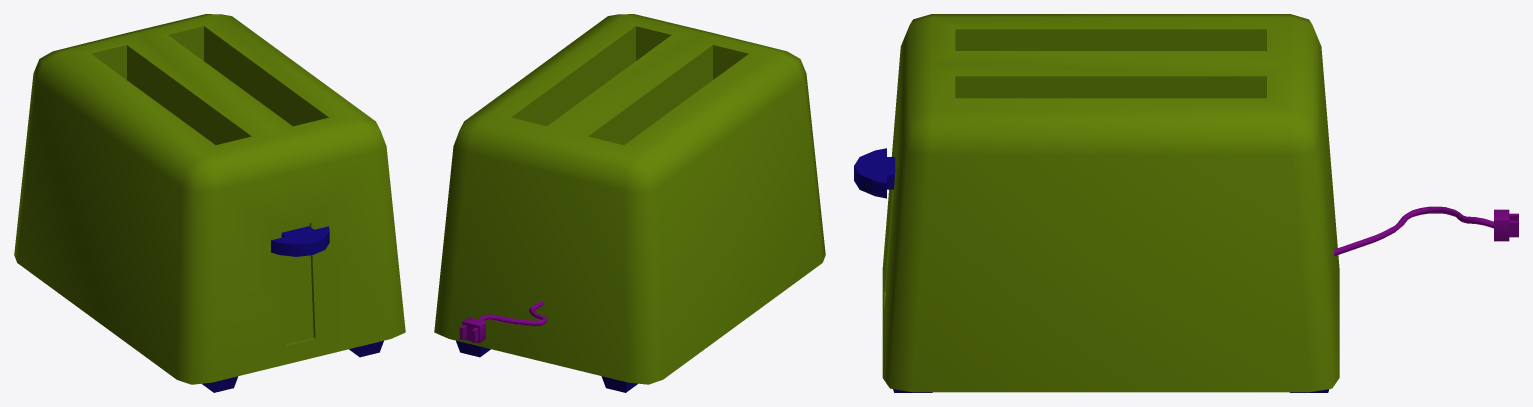
The model's file is SM_Toaster.fbx.
3 renders of one model, left to right at view 1: azimuth 30°, elevation 25°; view 2: azimuth 150°, elevation 25°; view 3: azimuth 270°, elevation 25°, orthographic. The views are drawn at different scales.
Visible parts, largest first — view 1: SM_Toaster; view 2: SM_Toaster; view 3: SM_Toaster.
Boxes of the visible parts, bbox=[...] form: SM_Toaster: bbox=[14, 14, 405, 392]; SM_Toaster: bbox=[434, 14, 825, 392]; SM_Toaster: bbox=[854, 14, 1518, 392].
Size of the model in its own units: 34.09 by 32.22 by 69.61.
